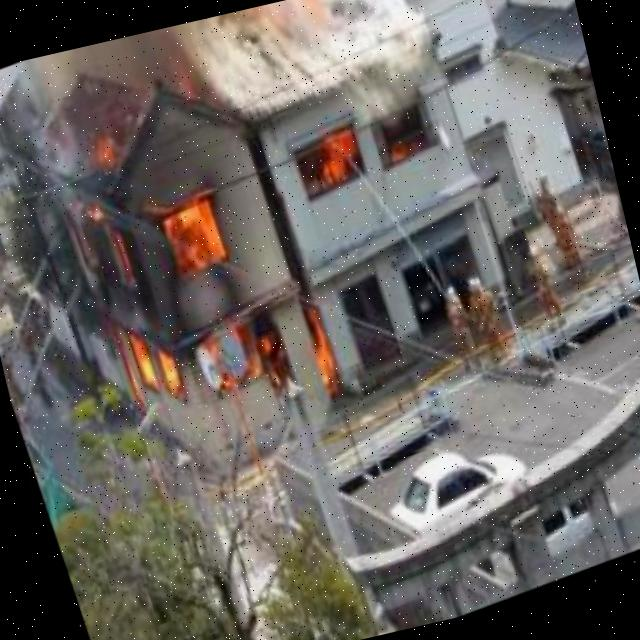fire: (8, 82, 356, 481), (267, 94, 425, 226)
